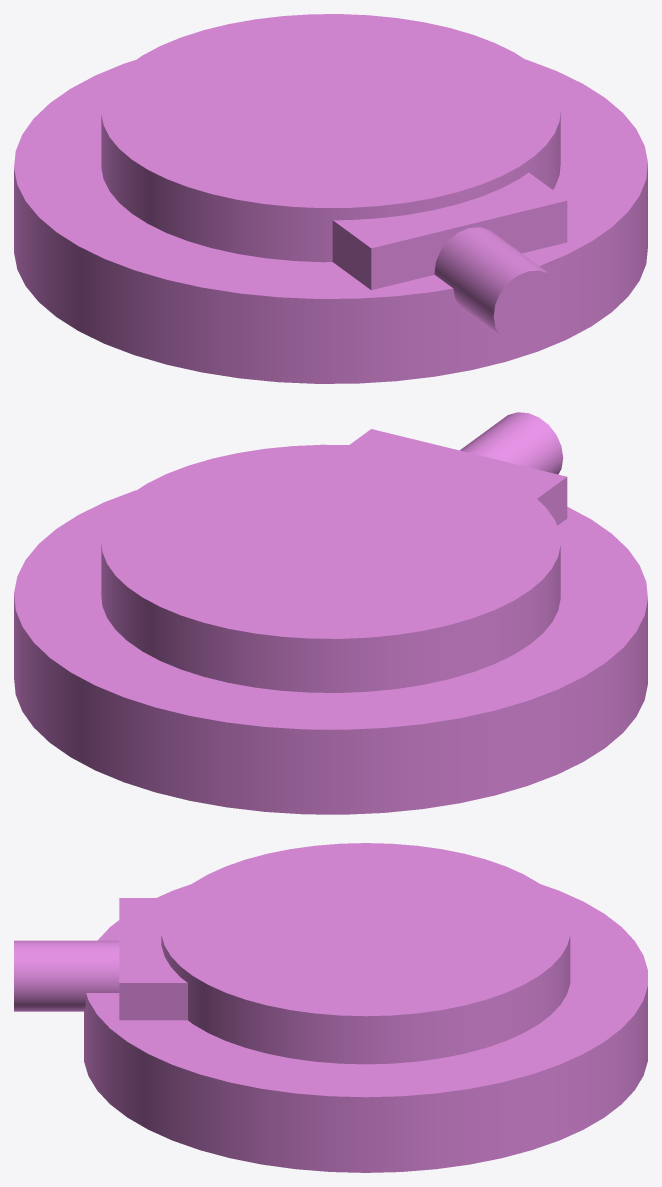
The model's file is Blackgun.fbx.
The picture shows the model from 3 angles, top to bottom: view 1: azimuth 30°, elevation 25°; view 2: azimuth 150°, elevation 25°; view 3: azimuth 270°, elevation 25°; orthographic projection. The views are drawn at different scales.
Parts seen in each view (by area): view 1: up, pasted__pCylinder2, tai, gun; view 2: pasted__pCylinder2, up, tai, gun; view 3: up, pasted__pCylinder2, gun, tai.
Part boxes in pixels (bbox=[...]): up: bbox=[101, 14, 560, 262]; pasted__pCylinder2: bbox=[14, 59, 647, 383]; tai: bbox=[332, 172, 567, 290]; gun: bbox=[434, 227, 563, 344]; pasted__pCylinder2: bbox=[14, 490, 647, 814]; up: bbox=[101, 444, 560, 692]; tai: bbox=[350, 429, 567, 525]; gun: bbox=[460, 412, 563, 474]; up: bbox=[161, 843, 570, 1064]; pasted__pCylinder2: bbox=[84, 884, 647, 1172]; gun: bbox=[14, 940, 119, 1011]; tai: bbox=[119, 898, 187, 1020].
Size of the model in its own units: 1.1 by 0.2669 by 1.24.
